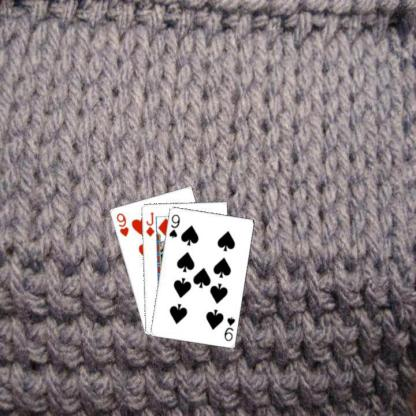9H: (113, 210, 130, 238)
9S: (221, 314, 236, 342), (166, 212, 181, 239)
JD: (144, 210, 156, 237)
